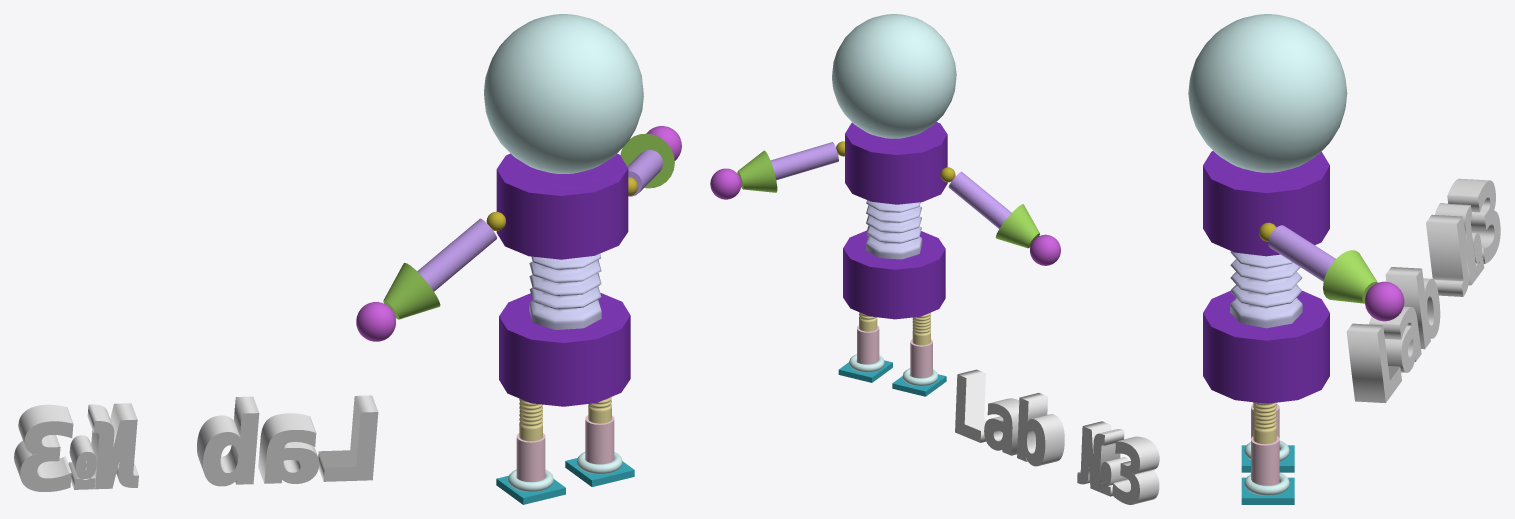
Rendered from scene-add-text.gltf.
3 views of the same model, side by side, from view 1: azimuth 30°, elevation 25°; view 2: azimuth 150°, elevation 25°; view 3: azimuth 270°, elevation 25° (orthographic). The views are drawn at different scales.
Parts seen in each view (by area): view 1: Object_4, Object_10, Text, Object_9, Object_5, Object_7, Object_12, Object_8, Object_3, Object_11; view 2: Object_4, Object_10, Text, Object_9, Object_7, Object_5, Object_8, Object_12, Object_3, Object_11; view 3: Object_4, Object_10, Text, Object_9, Object_5, Object_7, Object_12, Object_3, Object_8, Object_11.
Part boxes in pixels (bbox=[...]): Object_4: bbox=[496, 153, 630, 406]; Object_10: bbox=[484, 14, 643, 491]; Text: bbox=[14, 395, 378, 491]; Object_9: bbox=[529, 253, 601, 329]; Object_5: bbox=[383, 133, 674, 319]; Object_7: bbox=[417, 149, 663, 291]; Object_12: bbox=[516, 415, 614, 481]; Object_8: bbox=[356, 126, 681, 341]; Object_3: bbox=[496, 458, 634, 504]; Object_11: bbox=[519, 397, 611, 441]; Object_4: bbox=[843, 122, 947, 319]; Object_10: bbox=[832, 14, 956, 386]; Text: bbox=[955, 369, 1159, 504]; Object_9: bbox=[866, 200, 922, 259]; Object_7: bbox=[770, 142, 1011, 228]; Object_5: bbox=[737, 150, 1039, 248]; Object_8: bbox=[710, 168, 1060, 265]; Object_12: bbox=[857, 325, 932, 378]; Object_3: bbox=[838, 360, 946, 396]; Object_11: bbox=[859, 312, 930, 345]; Object_4: bbox=[1203, 151, 1329, 403]; Object_10: bbox=[1188, 14, 1347, 495]; Text: bbox=[1346, 178, 1500, 403]; Object_9: bbox=[1230, 251, 1302, 328]; Object_5: bbox=[1323, 250, 1377, 303]; Object_7: bbox=[1268, 225, 1335, 281]; Object_12: bbox=[1251, 404, 1279, 485]; Object_3: bbox=[1241, 445, 1294, 504]; Object_8: bbox=[1365, 281, 1404, 321]; Object_11: bbox=[1253, 402, 1276, 444].
Bounding box in the file's own units: 4.72 × 3.37 × 2.09.
